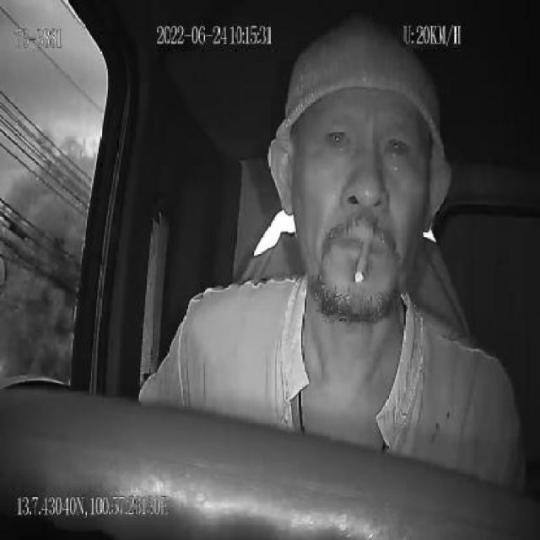smoking: (352, 235, 374, 290)
